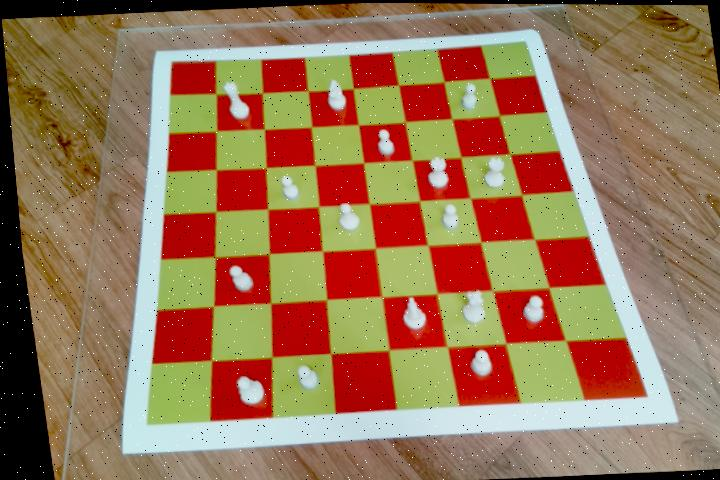chessboard-detect: (137, 40, 642, 424)
